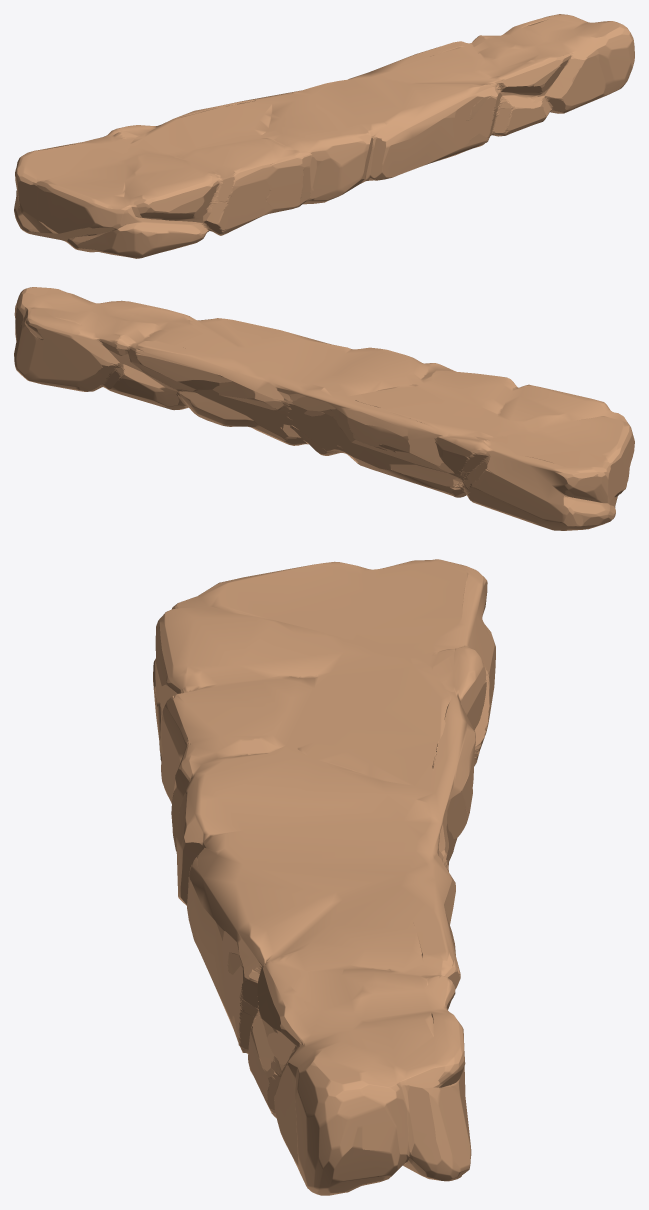
3 views of the same model, one above another, from view 1: azimuth 30°, elevation 25°; view 2: azimuth 150°, elevation 25°; view 3: azimuth 270°, elevation 25° (orthographic). The views are drawn at different scales.
Visible parts, largest first — view 1: Mesh_76.001_LOD0; view 2: Mesh_76.001_LOD0; view 3: Mesh_76.001_LOD0.
Boxes of the visible parts, x1,y1,x2,y2 form: Mesh_76.001_LOD0: (14,14,634,258); Mesh_76.001_LOD0: (14,287,634,530); Mesh_76.001_LOD0: (153,559,495,1195).
Size of what is drawn, in the model's own units: 5901 by 764 by 1468.
